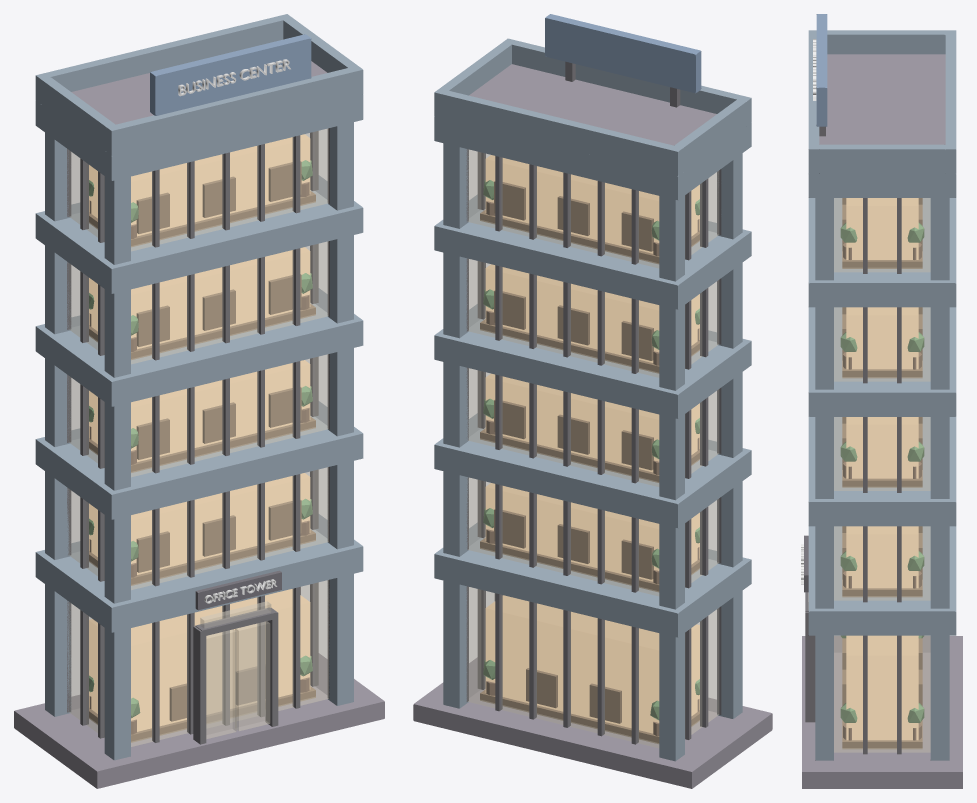
The model's file is 30-business-center-tower.glb.
The picture shows the model from 3 angles, left to right: view 1: azimuth 30°, elevation 25°; view 2: azimuth 150°, elevation 25°; view 3: azimuth 270°, elevation 25°; orthographic projection. The views are drawn at different scales.
Parts seen in each view (by area): view 1: GF_Glass, B4_Glass, B3_Glass, B1_Glass, B2_Glass, Base, Slab2, Slab3, Slab1, Column, SlabGF, Column.002 (+51 smaller); view 2: GF_Glass, Base, B1_Glass, B3_Glass, B4_Glass, B2_Glass, GF_Glow, SlabGF, Slab2, Slab3, Slab1, Column.001 (+40 smaller); view 3: RoofDeck, Base, GF_Glass, Column.003, Column.002, Slab1, Slab3, SlabGF, Slab2, B1_Glass, B3_Glass, B4_Glass (+28 smaller).
Boxes of the visible parts, x1,y1,x2,y2 form: GF_Glass: [69, 580, 328, 746]; B4_Glass: [69, 128, 328, 251]; B3_Glass: [69, 241, 328, 364]; B1_Glass: [69, 467, 328, 589]; B2_Glass: [69, 354, 328, 477]; Base: [14, 653, 384, 788]; Slab2: [35, 288, 363, 406]; Slab3: [35, 175, 363, 293]; Slab1: [35, 401, 363, 519]; Column: [104, 176, 130, 760]; SlabGF: [35, 514, 363, 632]; Column.002: [327, 122, 353, 705]; GF_Glass: [468, 587, 718, 748]; Base: [413, 657, 772, 788]; B1_Glass: [468, 477, 718, 596]; B3_Glass: [468, 259, 718, 377]; B4_Glass: [468, 149, 718, 268]; B2_Glass: [468, 368, 718, 486]; GF_Glow: [485, 595, 699, 733]; SlabGF: [434, 522, 751, 637]; Slab2: [434, 304, 751, 418]; Slab3: [434, 194, 751, 309]; Slab1: [434, 413, 751, 528]; Column.001: [659, 195, 684, 761]; RoofDeck: [819, 54, 945, 144]; Base: [802, 636, 962, 788]; GF_Glass: [834, 635, 930, 752]; Column.003: [930, 198, 949, 760]; Column.002: [815, 198, 833, 760]; Slab1: [808, 416, 956, 526]; Slab3: [808, 198, 956, 307]; SlabGF: [808, 526, 956, 635]; Slab2: [808, 307, 956, 416]; B1_Glass: [834, 526, 930, 600]; B3_Glass: [834, 307, 930, 381]; B4_Glass: [834, 198, 930, 272].
Size of the model in its own units: 2.4 by 5.51 by 1.21.
